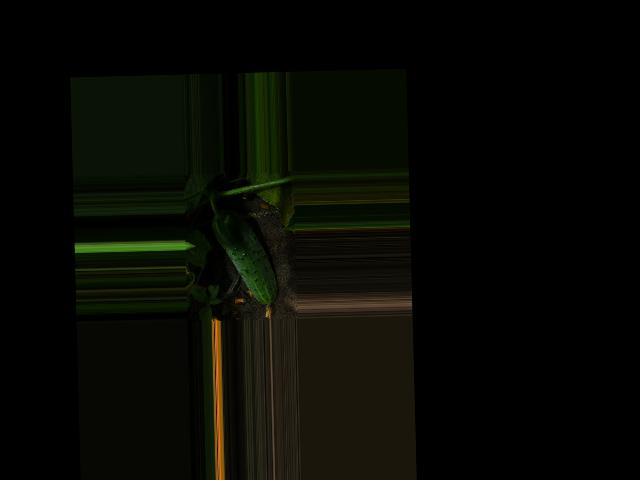cucumber: (211, 208, 279, 320)
